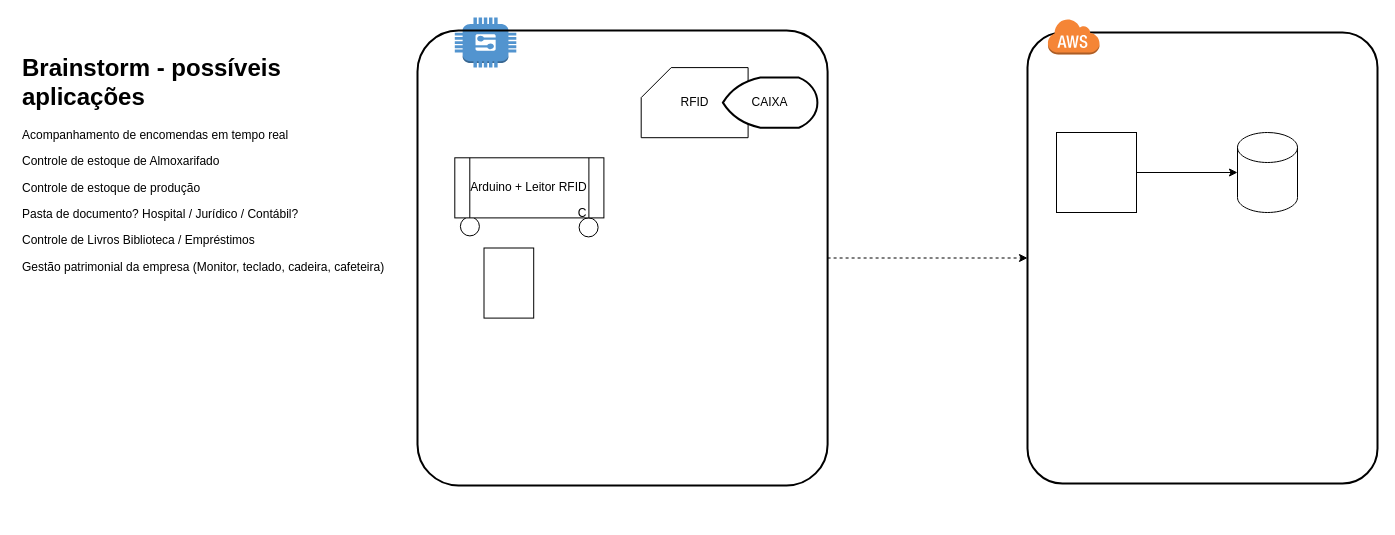
This 1395x535 diagram has some shape labels left out. The shapes that lost their labels are listed below. From the top down, each one's box as (x1, y1, x2, y2) in pixels, then its label:
(1056, 132, 1136, 212): API PROGRAMA WS Lambda
(483, 247, 534, 318): ID ID ID ID
